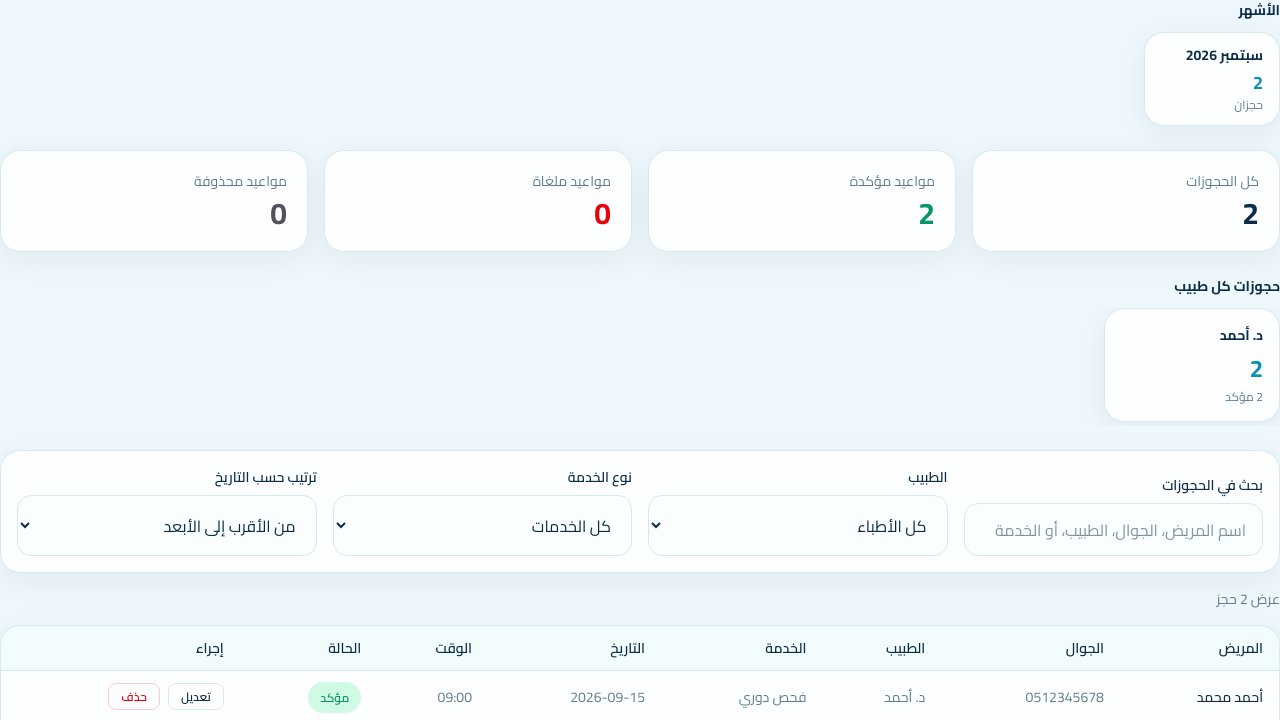
Test: AdminBookings — واجهة › يفتح نافذة الشهر مع البحث عند الضغط على شهر
Click the button "سبتمبر 2026 2 حجزان" at point(1212, 79), box [1144,32,1279,126]
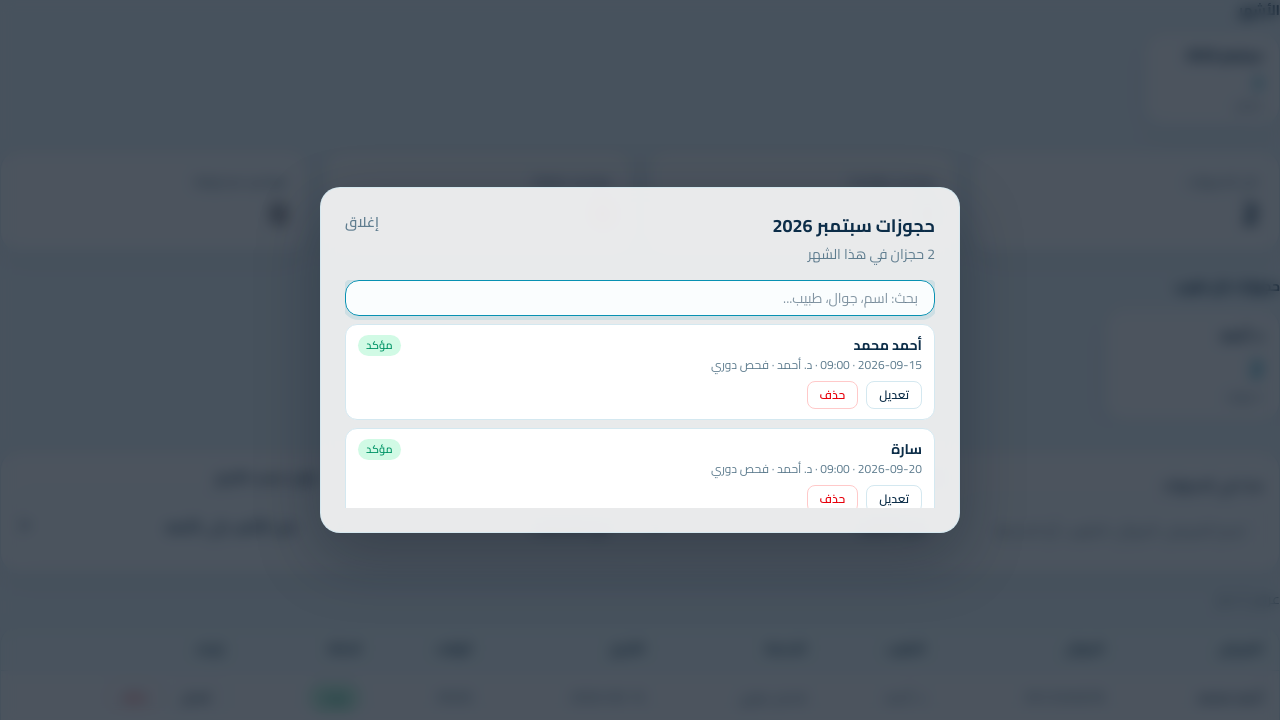
Check: the heading "حجوزات سبتمبر 2026" is shown, box [772,212,935,240]
Check: the search field named "بحث في حجوزات الشهر" is shown, box [345,280,935,316]
Check: the text "أحمد محمد" is shown, box [854,332,922,358]
